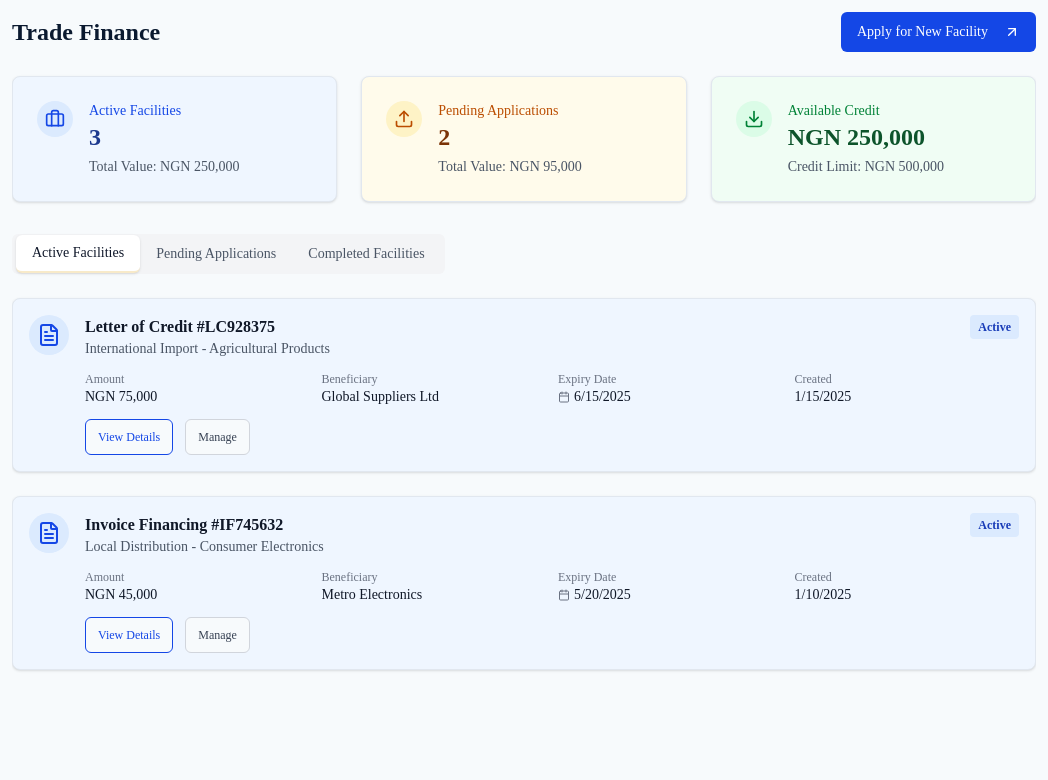
Test: TradeFinanceTab › Application Filtering › should filter completed applications correctly
Click the tab "Completed Facilities".
click(366, 254)  # box [292,236,441,272]
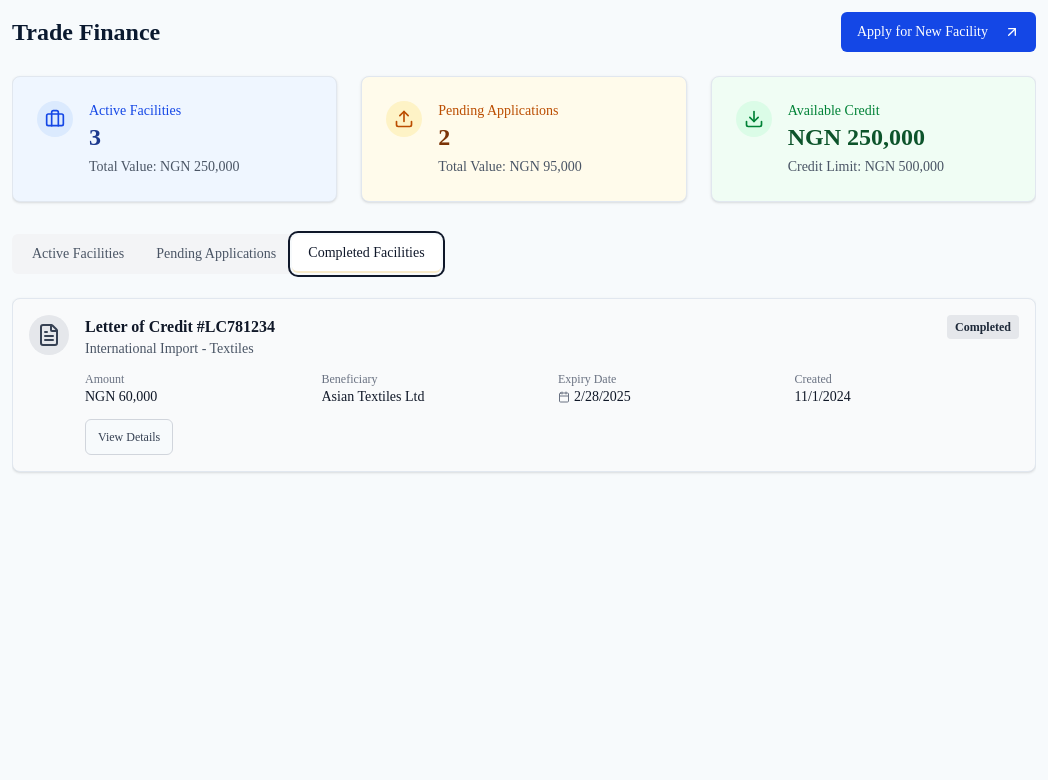
Expected: the text "Completed" is shown, [947,315,1019,339]
